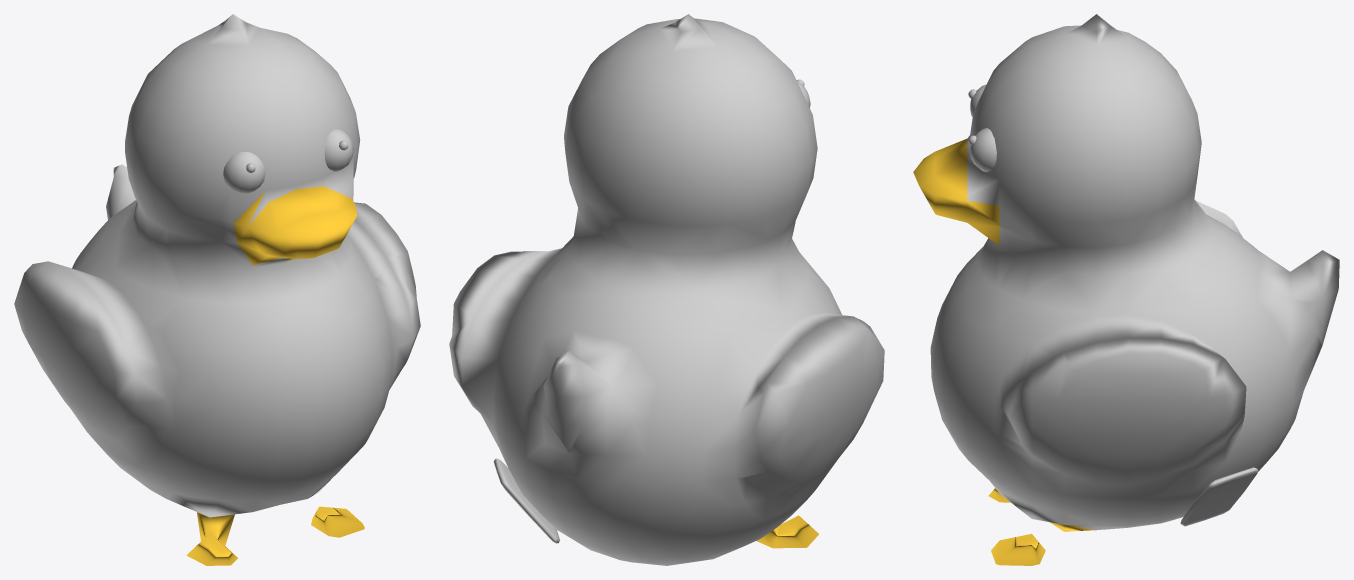
File: plush_duck_lod.fbx
3 renders of one model, left to right at view 1: azimuth 30°, elevation 25°; view 2: azimuth 150°, elevation 25°; view 3: azimuth 270°, elevation 25°, orthographic. The views are drawn at different scales.
Parts seen in each view (by area): view 1: plush_duck_lod; view 2: plush_duck_lod; view 3: plush_duck_lod.
Boxes of the visible parts, x1=… form: plush_duck_lod: x1=14, y1=14, x2=420, y2=565; plush_duck_lod: x1=449, y1=14, x2=884, y2=565; plush_duck_lod: x1=913, y1=14, x2=1339, y2=565.
Size of the model in its own units: 0.712 by 1.02 by 0.7688.
